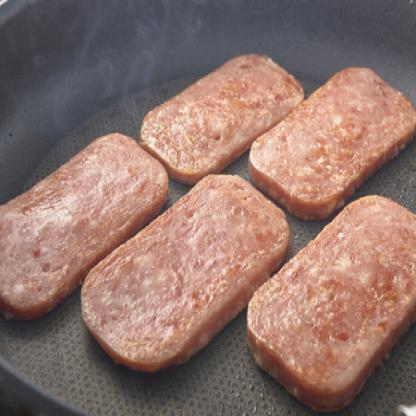spam: (88, 180, 298, 350), (244, 193, 412, 387), (0, 150, 176, 283), (264, 53, 402, 202), (128, 70, 286, 164)
